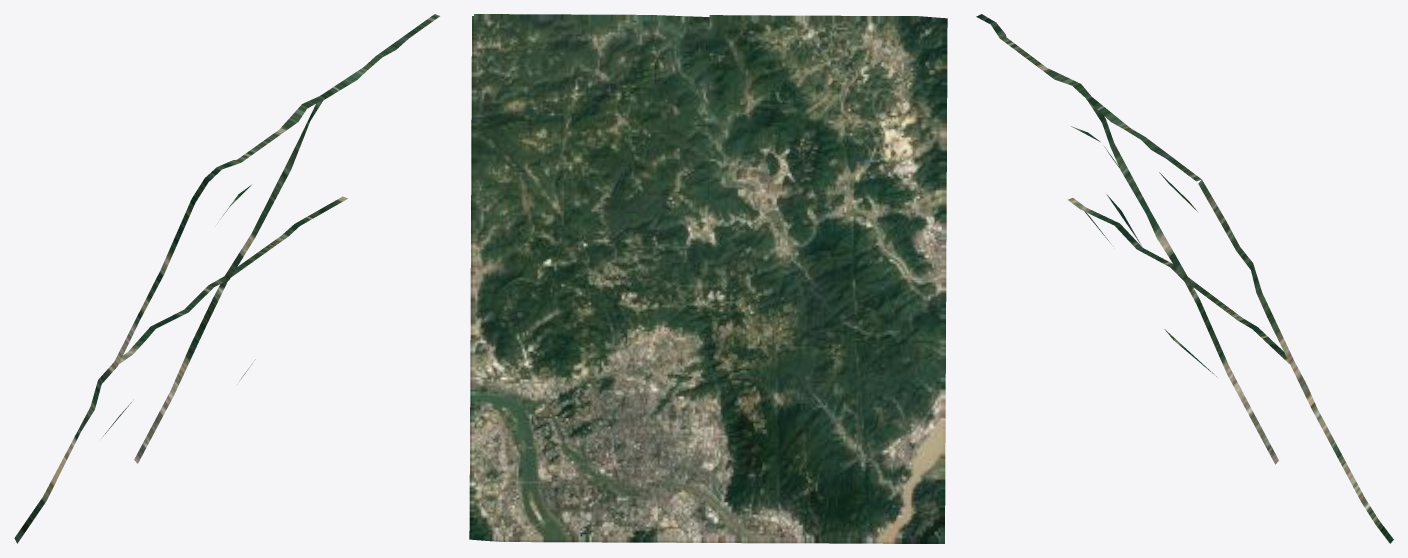
3 renders of one model, left to right at view 1: azimuth 30°, elevation 25°; view 2: azimuth 150°, elevation 25°; view 3: azimuth 270°, elevation 25°, orthographic. The views are drawn at different scales.
Bounding box in the file's own units: 39576 × 35873 × 32821.
Materials: 1 (1 with a texture image).
